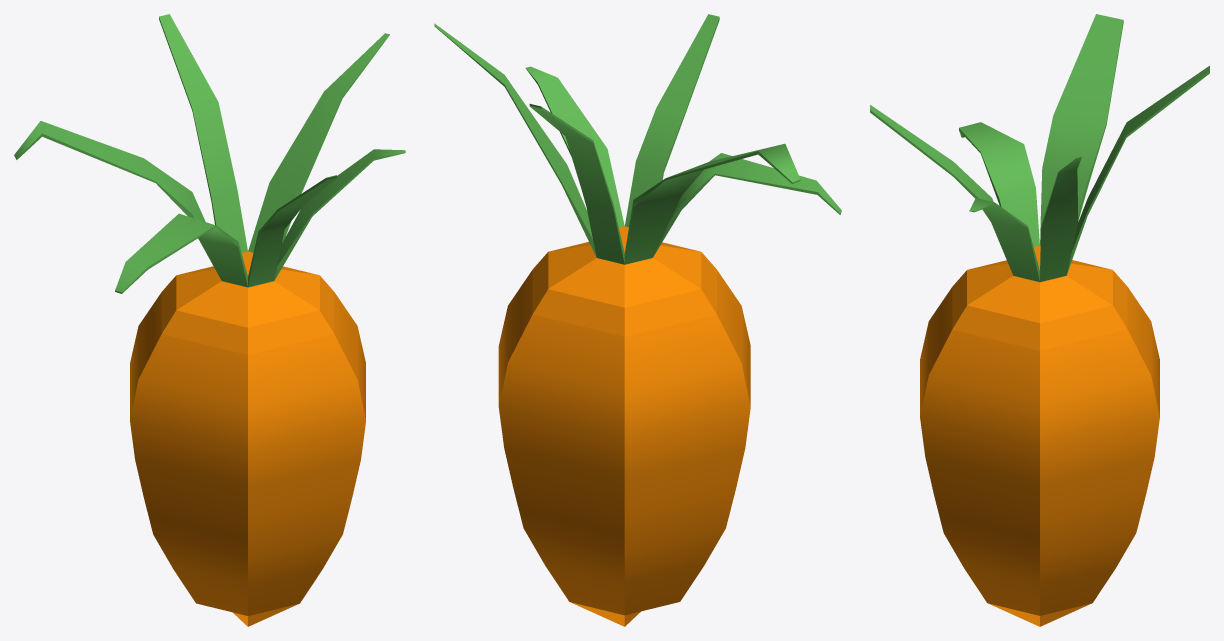
Rendered from Carrot full.fbx.
3 views of the same model, side by side, from view 1: azimuth 30°, elevation 25°; view 2: azimuth 150°, elevation 25°; view 3: azimuth 270°, elevation 25° (orthographic). The views are drawn at different scales.
Parts seen in each view (by area): view 1: pCylinder5; view 2: pCylinder5; view 3: pCylinder5.
Boxes of the visible parts, x1,y1,x2,y2 form: pCylinder5: [14, 14, 405, 626]; pCylinder5: [434, 14, 841, 626]; pCylinder5: [870, 14, 1209, 626].
Bounding box in the file's own units: 2.7 × 3.96 × 2.18.
